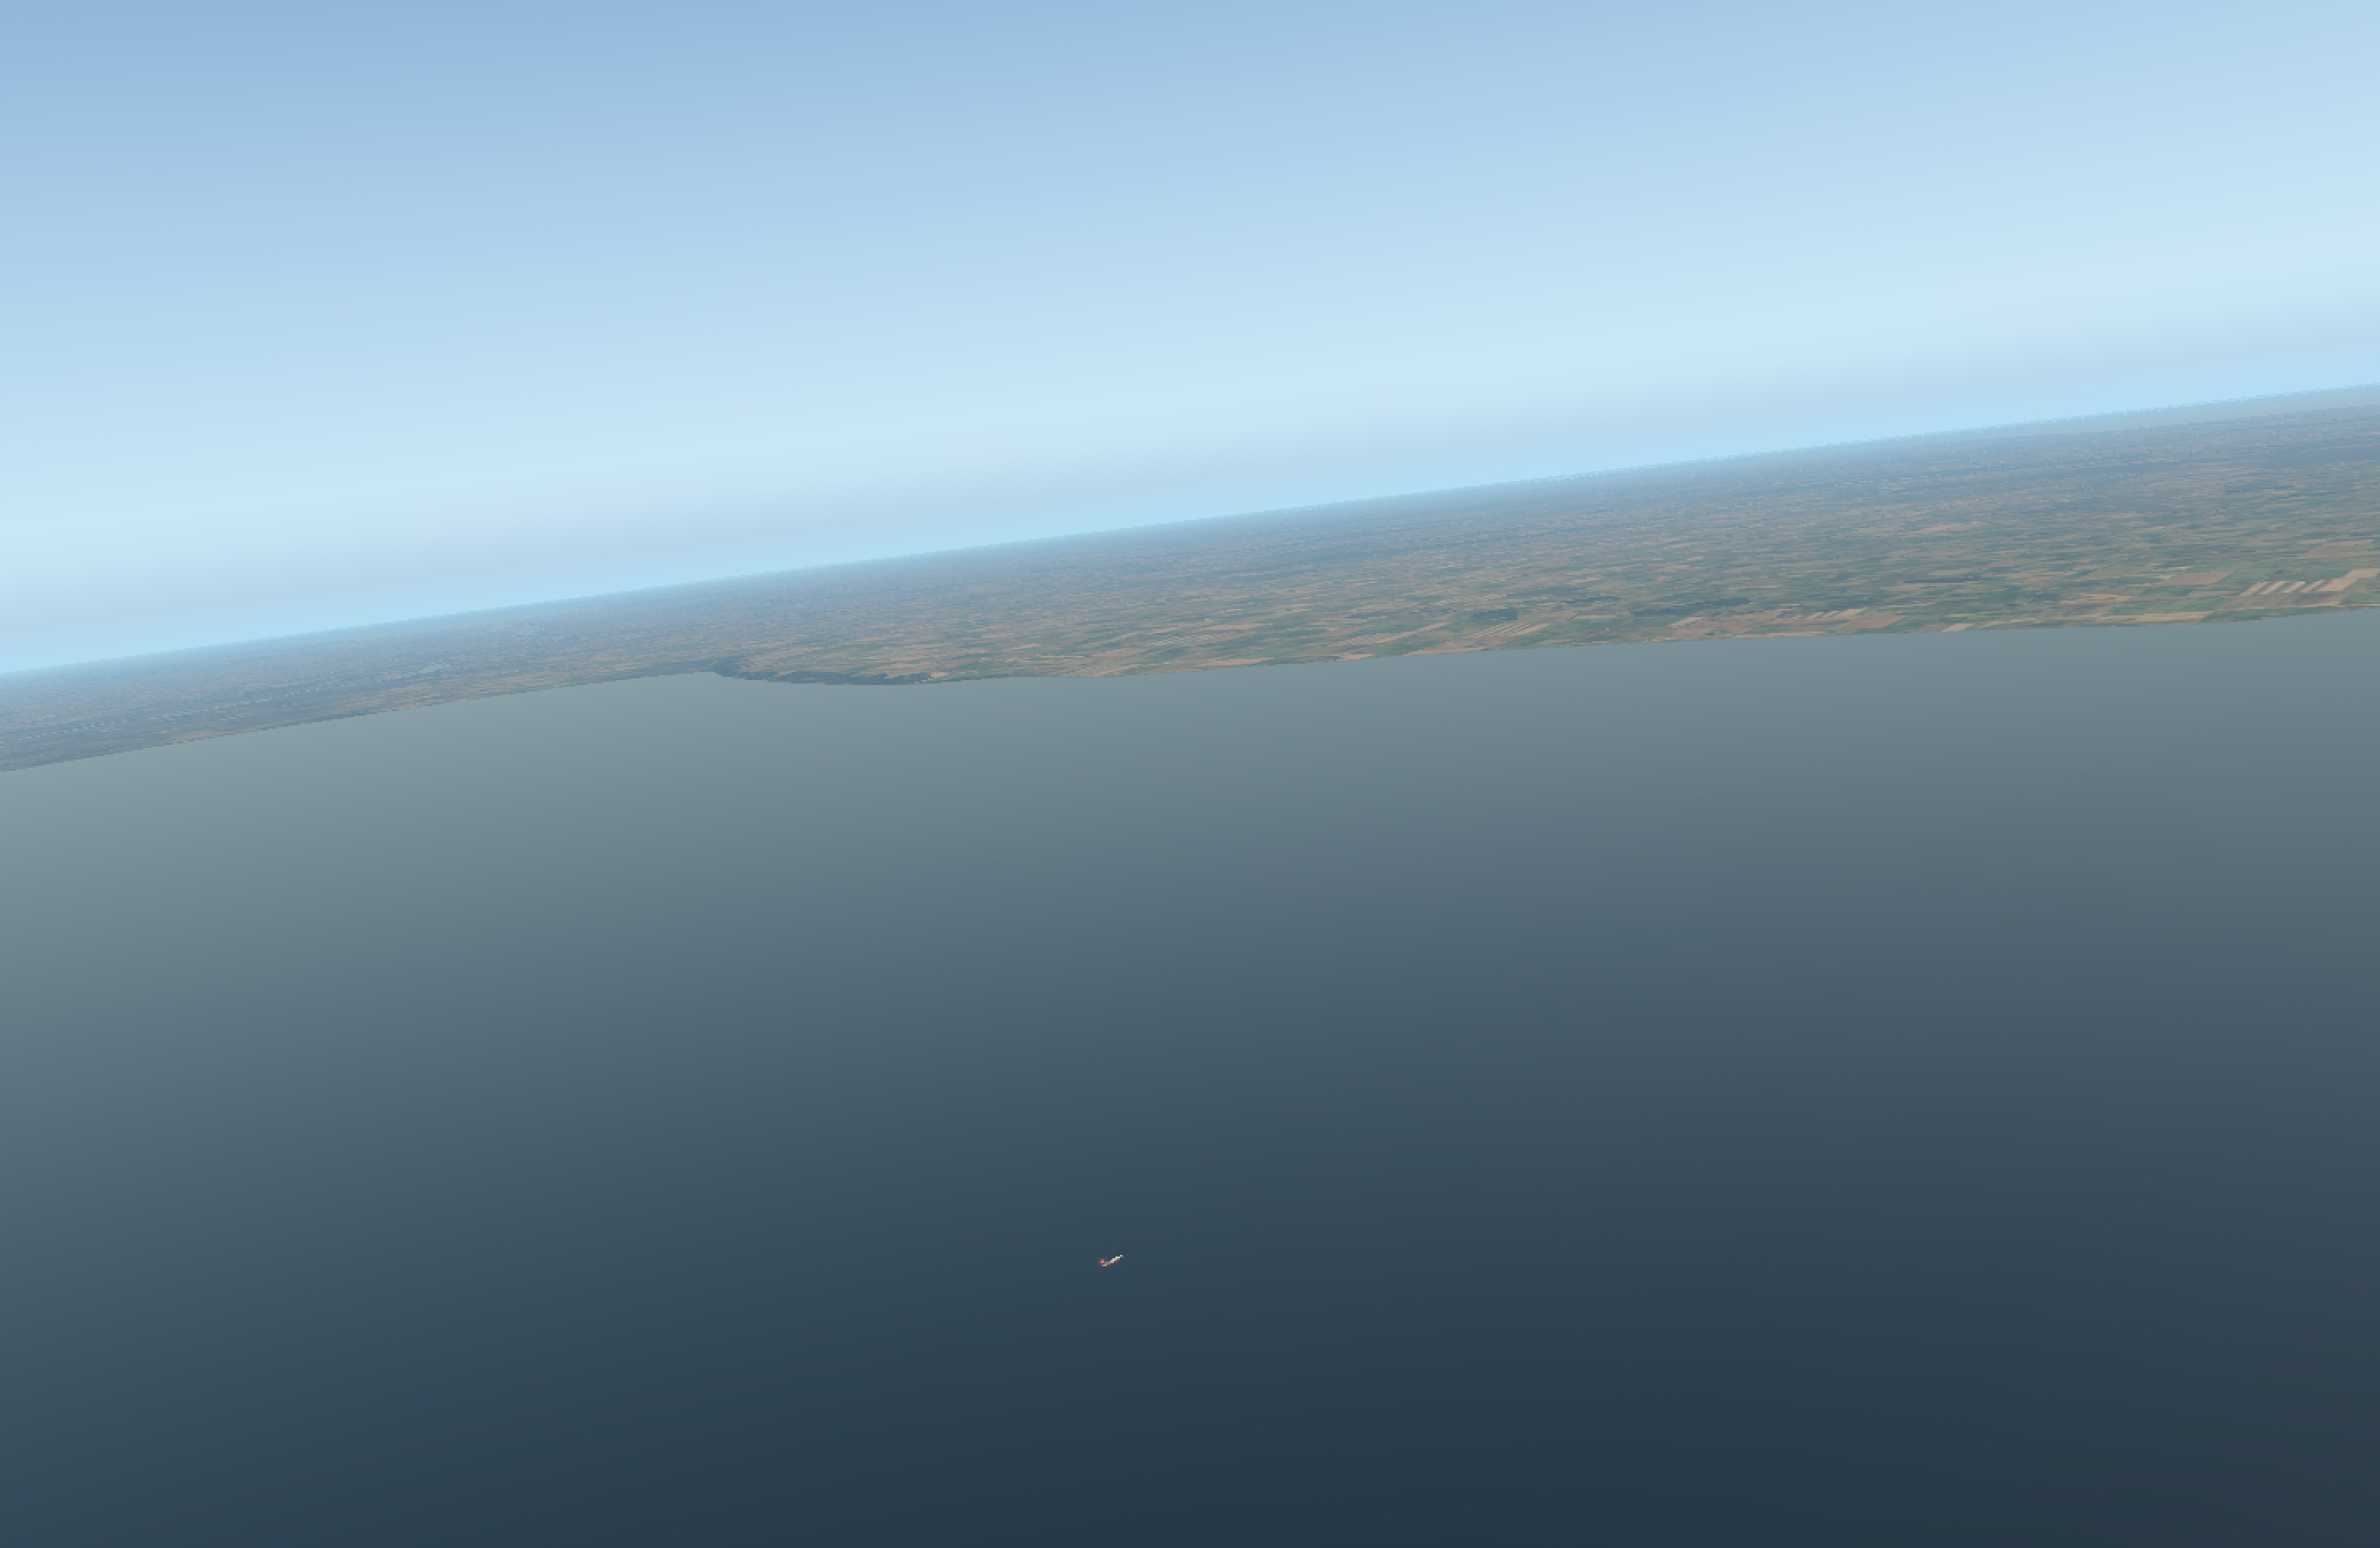aircraft: (1098, 1253, 1134, 1267)
